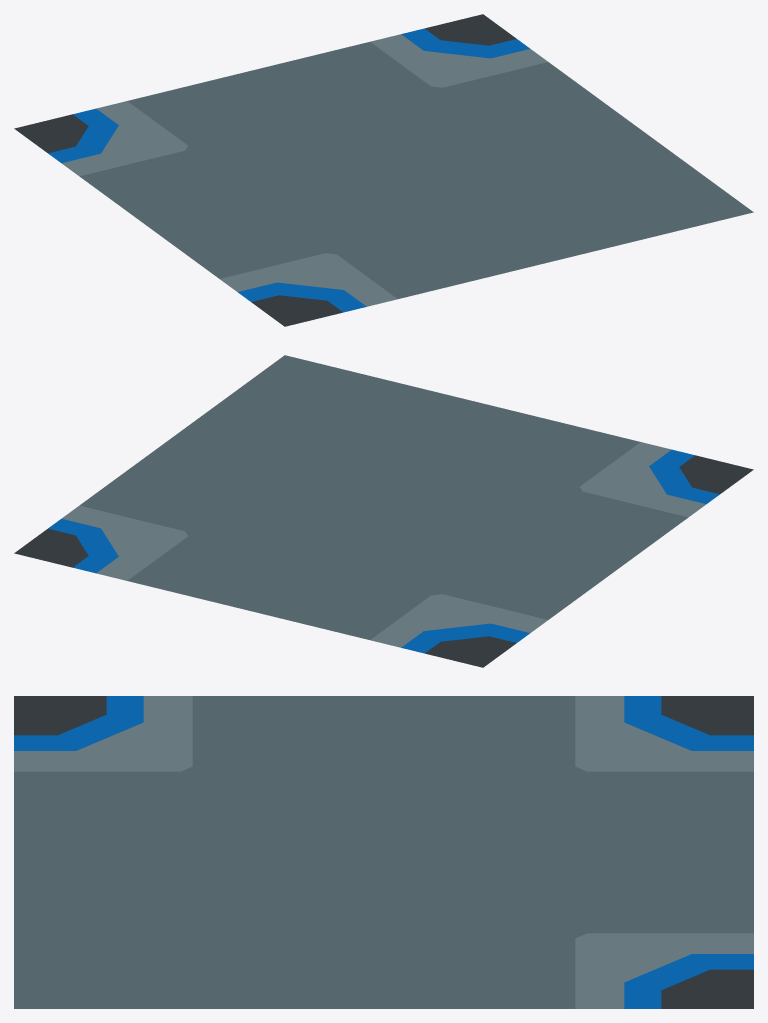
Rendered from Ceiling_type_C_028.fbx.
The picture shows the model from 3 angles, top to bottom: view 1: azimuth 30°, elevation 25°; view 2: azimuth 150°, elevation 25°; view 3: azimuth 270°, elevation 25°; orthographic projection. The views are drawn at different scales.
Visible parts, largest first — view 1: Ceiling_type_C_028; view 2: Ceiling_type_C_028; view 3: Ceiling_type_C_028.
Part boxes in pixels (<box>): Ceiling_type_C_028: <box>14,14,753,326</box>; Ceiling_type_C_028: <box>14,355,753,667</box>; Ceiling_type_C_028: <box>14,696,753,1008</box>.
Size of the model in its own units: 400 by 400 by 6.18.
